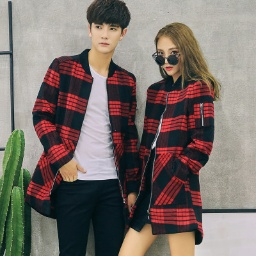face: (154, 21, 207, 84), (86, 1, 131, 57)
